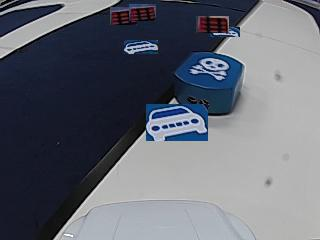danger: (189, 57, 227, 79)
